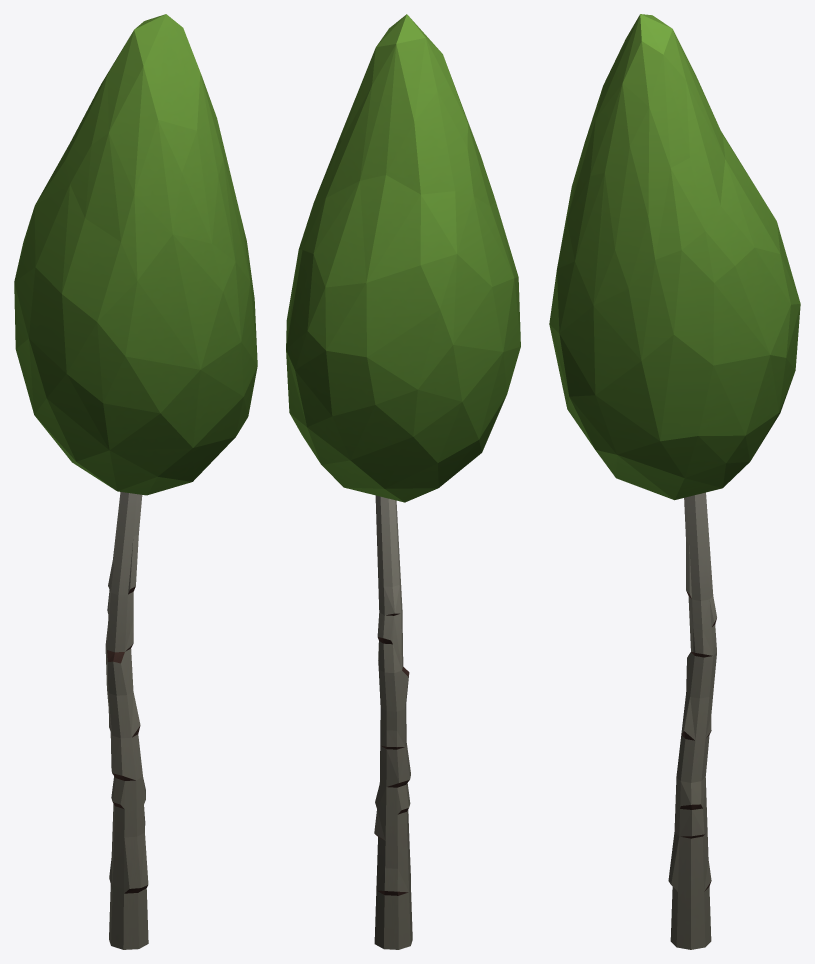
File: ZLP_Plant_J_3.FBX
The picture shows the model from 3 angles, left to right: view 1: azimuth 30°, elevation 25°; view 2: azimuth 150°, elevation 25°; view 3: azimuth 270°, elevation 25°; orthographic projection. The views are drawn at different scales.
Visible parts, largest first — view 1: ZLP_Plant_J_3; view 2: ZLP_Plant_J_3; view 3: ZLP_Plant_J_3.
Boxes of the visible parts, bbox=[...] form: ZLP_Plant_J_3: bbox=[14, 14, 257, 949]; ZLP_Plant_J_3: bbox=[286, 14, 520, 949]; ZLP_Plant_J_3: bbox=[549, 14, 800, 949].
Size of the model in its own units: 186 by 794 by 194.
